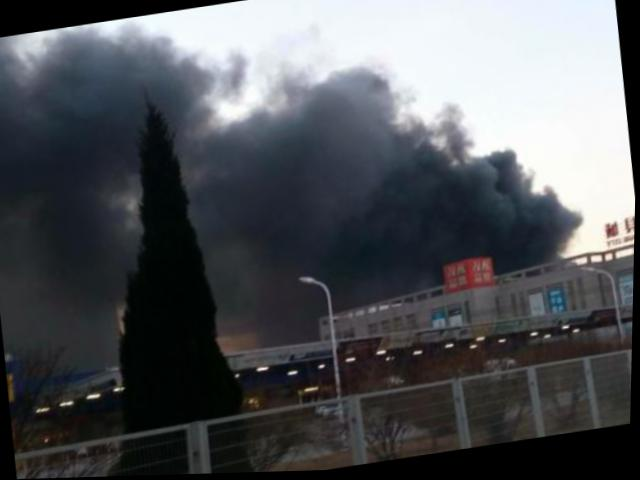smoke: (203, 171, 437, 339), (0, 121, 157, 362), (180, 81, 477, 202), (0, 7, 247, 145), (416, 144, 589, 279), (265, 63, 385, 110)
